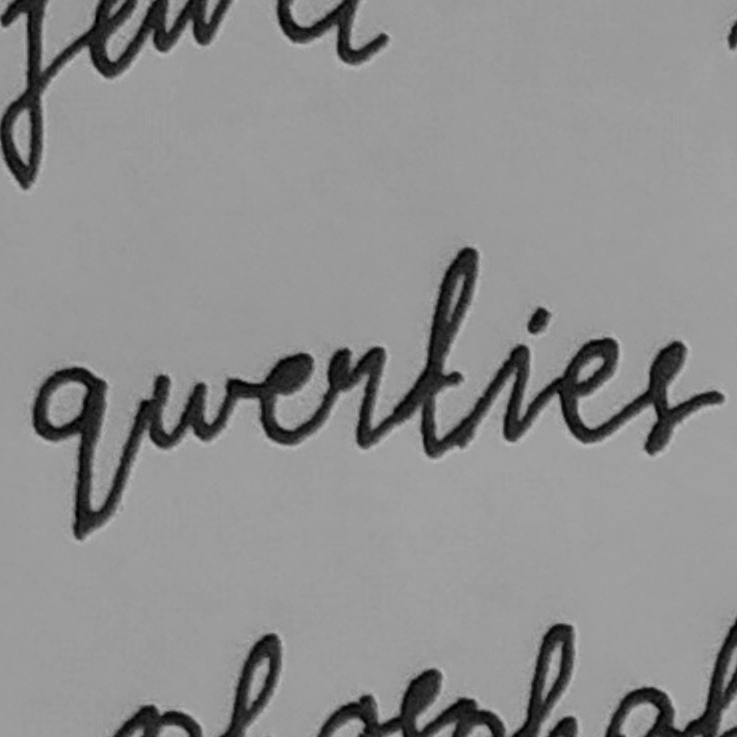e: (557, 318, 628, 454), (252, 350, 319, 449)
i: (489, 300, 556, 449)
q: (25, 358, 117, 549)
r: (321, 338, 399, 456)
s: (634, 334, 698, 460)
t: (404, 238, 486, 465)
w: (133, 368, 249, 449)
